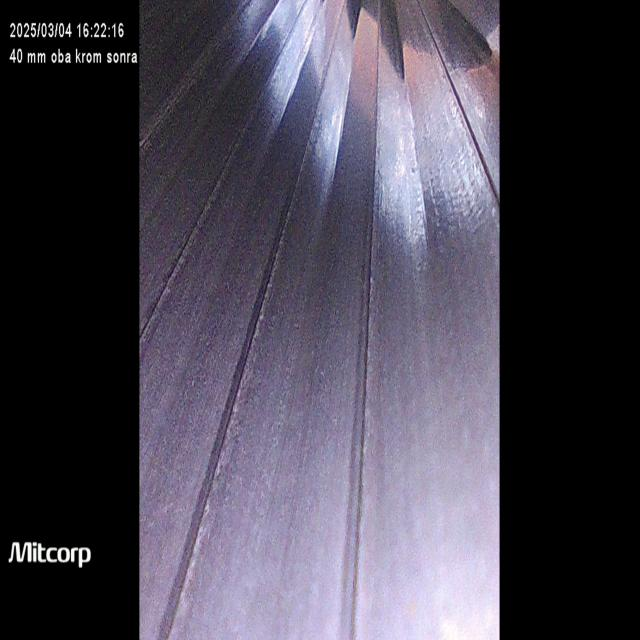hata_8.1: (161, 137, 319, 627)
